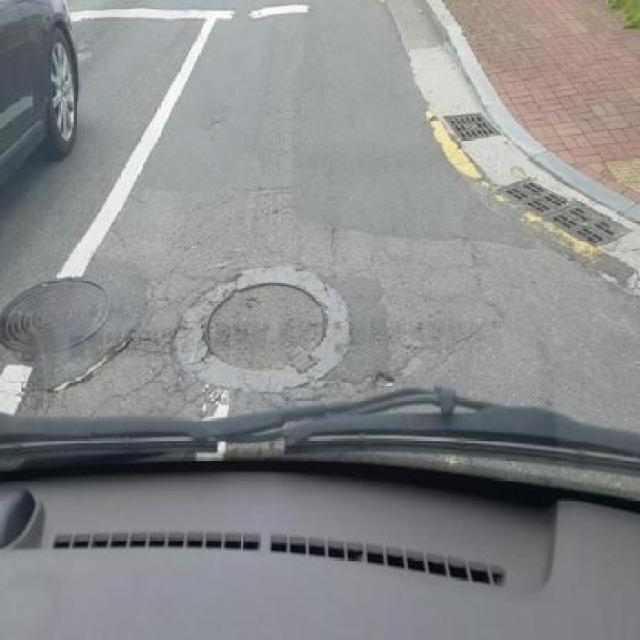Manhole: (169, 258, 354, 402), (489, 174, 628, 251), (3, 279, 120, 350), (442, 104, 504, 146)
